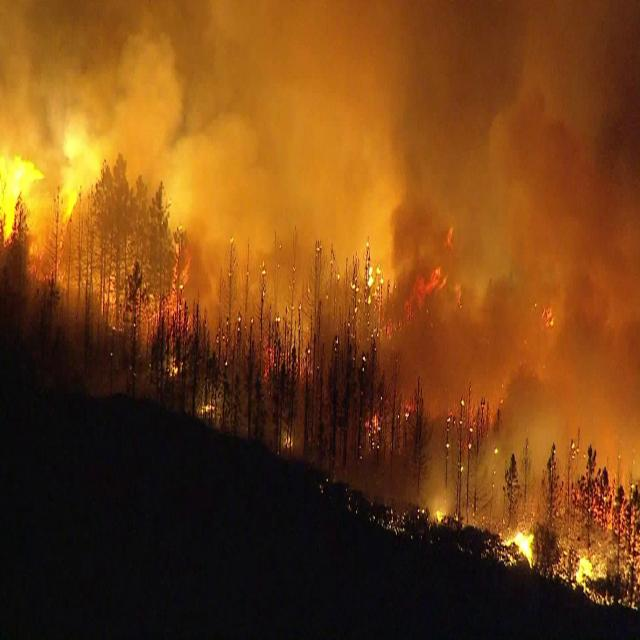Fire: (393, 231, 457, 328), (0, 152, 40, 236), (166, 252, 188, 372), (61, 166, 92, 230), (496, 527, 541, 563), (571, 557, 597, 591), (428, 503, 455, 534)
